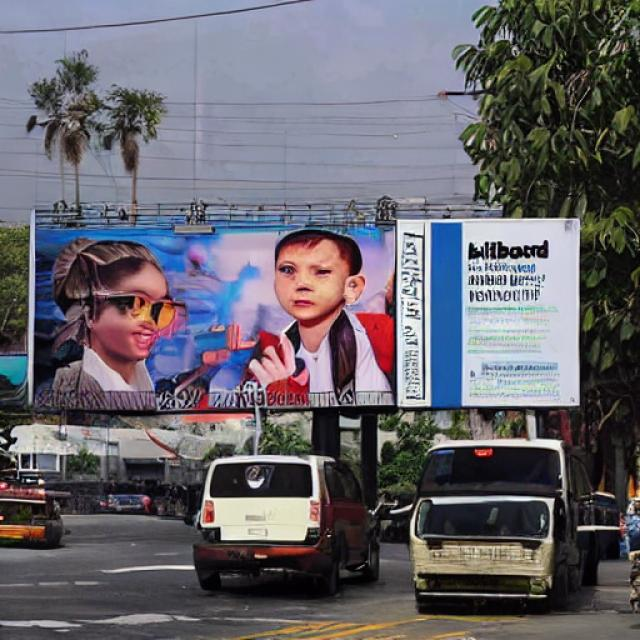Billboard: (29, 214, 588, 414)
